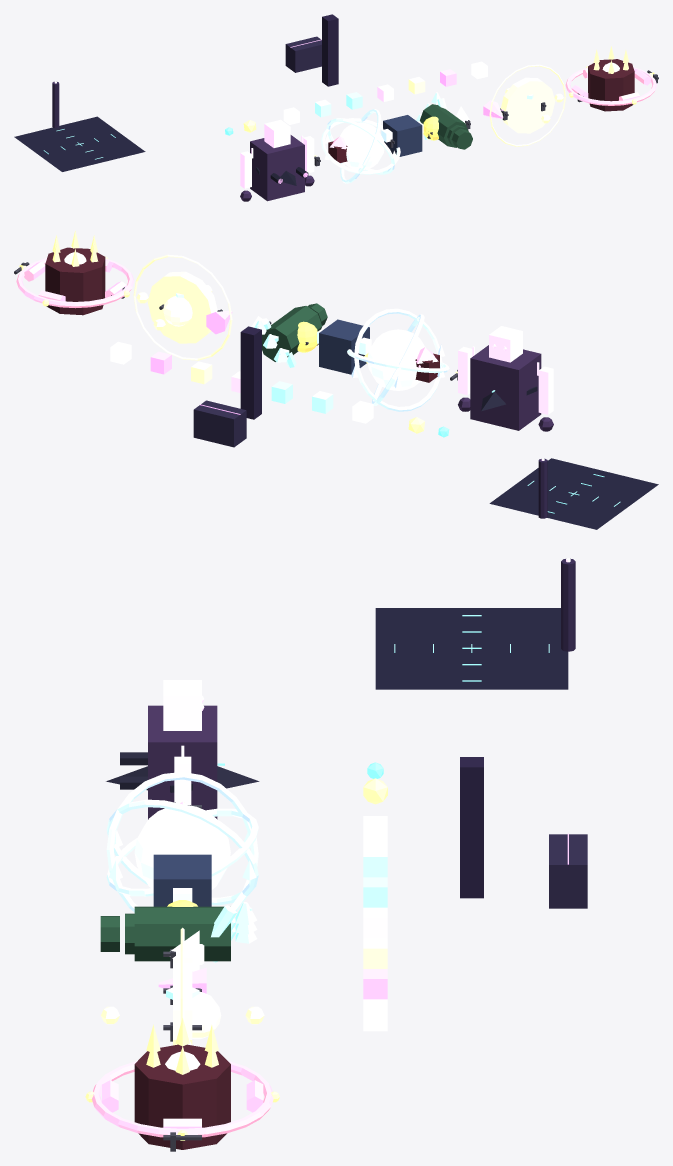
File: all_assets.glb
3 views of the same model, one above another, from view 1: azimuth 30°, elevation 25°; view 2: azimuth 150°, elevation 25°; view 3: azimuth 270°, elevation 25° (orthographic). The views are drawn at different scales.
Parts seen in each view (by area): view 1: Arena_Tile, Boss_OmegaMachine, Boss_VoidCore, Boss_Overseer, Boss_NeonTitan, Boss_CyberHydra, Enemy_Tank, Bldg_Tall, Bldg_Wide, Titan_Head, Titan_Arm_L, Enemy_Grunt (+4 smaller); view 2: Arena_Tile, Boss_OmegaMachine, Boss_VoidCore, Boss_Overseer, Boss_NeonTitan, Boss_CyberHydra, Enemy_Tank, Bldg_Wide, Bldg_Tall, Titan_Head, Titan_Arm_L, Titan_Arm_R (+4 smaller); view 3: Arena_Tile, Boss_OmegaMachine, Boss_VoidCore, Boss_CyberHydra, Boss_NeonTitan, Bldg_Tall, Boss_Overseer, Enemy_Tank, Bldg_Wide, Titan_Head, PlayerShip, Neon_Pillar.
Part boxes in pixels (box(x1,y1,x2,y2)): Arena_Tile: box(14, 116, 145, 171); Boss_OmegaMachine: box(565, 46, 656, 111); Boss_VoidCore: box(321, 109, 400, 183); Boss_Overseer: box(489, 64, 566, 146); Boss_NeonTitan: box(250, 135, 304, 201); Boss_CyberHydra: box(416, 92, 472, 149); Enemy_Tank: box(381, 115, 423, 156); Bldg_Tall: box(322, 14, 338, 86); Bldg_Wide: box(285, 36, 321, 72); Titan_Head: box(264, 119, 290, 147); Titan_Arm_L: box(240, 151, 251, 188); Enemy_Grunt: box(328, 136, 347, 162); Arena_Tile: box(489, 458, 658, 529); Boss_OmegaMachine: box(16, 230, 134, 315); Boss_VoidCore: box(347, 308, 449, 411); Boss_Overseer: box(133, 254, 232, 360); Boss_NeonTitan: box(470, 345, 541, 430); Boss_CyberHydra: box(254, 303, 327, 367); Enemy_Tank: box(317, 319, 371, 374); Bldg_Wide: box(193, 400, 246, 447); Bldg_Tall: box(240, 326, 261, 419); Titan_Head: box(489, 326, 522, 362); Titan_Arm_L: box(538, 366, 553, 414); Titan_Arm_R: box(458, 346, 472, 395); Arena_Tile: box(375, 608, 568, 689); Boss_OmegaMachine: box(85, 1018, 279, 1149); Boss_VoidCore: box(106, 772, 258, 912); Boss_CyberHydra: box(100, 902, 257, 962); Boss_NeonTitan: box(148, 705, 217, 819); Bldg_Tall: box(460, 757, 483, 898); Boss_Overseer: box(101, 927, 264, 1045); Enemy_Tank: box(153, 854, 211, 906); Bldg_Wide: box(549, 834, 587, 908); Titan_Head: box(163, 680, 201, 730); PlayerShip: box(106, 752, 259, 792); Neon_Pillar: box(561, 558, 575, 651).
Bounding box in the file's own units: 26.09 × 4.84 × 10.42.
